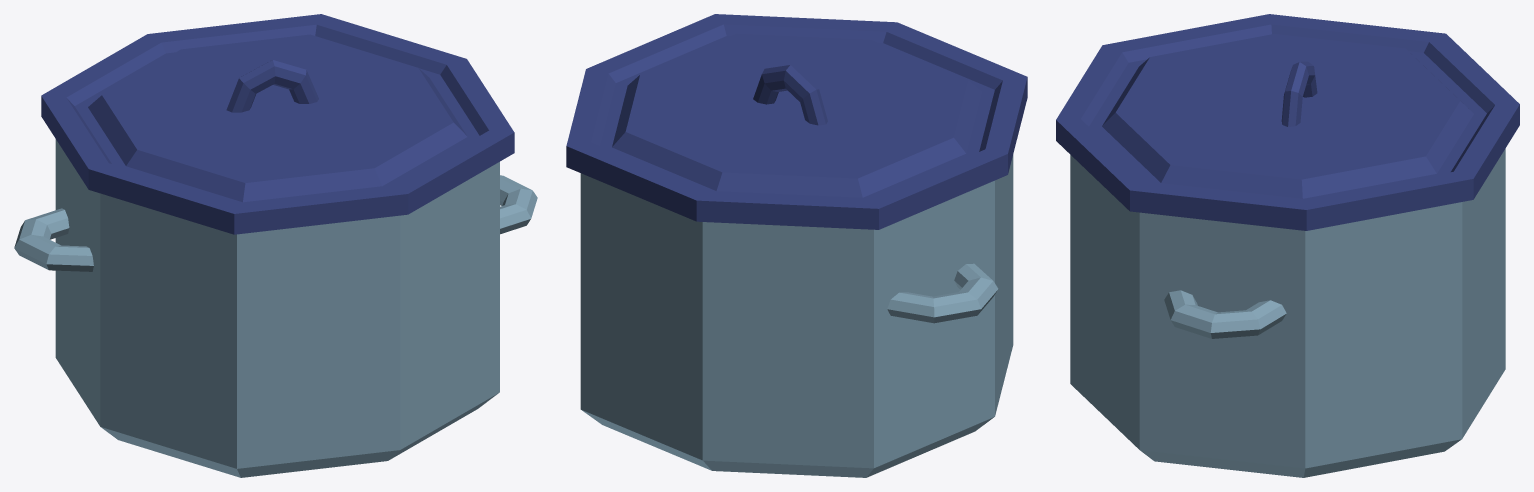
The model's file is Saucepan_1.fbx.
The picture shows the model from 3 angles, left to right: view 1: azimuth 30°, elevation 25°; view 2: azimuth 150°, elevation 25°; view 3: azimuth 270°, elevation 25°; orthographic projection.
Parts seen in each view (by area): view 1: Saucepan_1; view 2: Saucepan_1; view 3: Saucepan_1.
Boxes of the visible parts, bbox=[...] form: Saucepan_1: bbox=[14, 14, 537, 477]; Saucepan_1: bbox=[566, 14, 1027, 477]; Saucepan_1: bbox=[1056, 14, 1519, 477].
Size of the model in its own units: 59.36 by 53 by 42.04.
